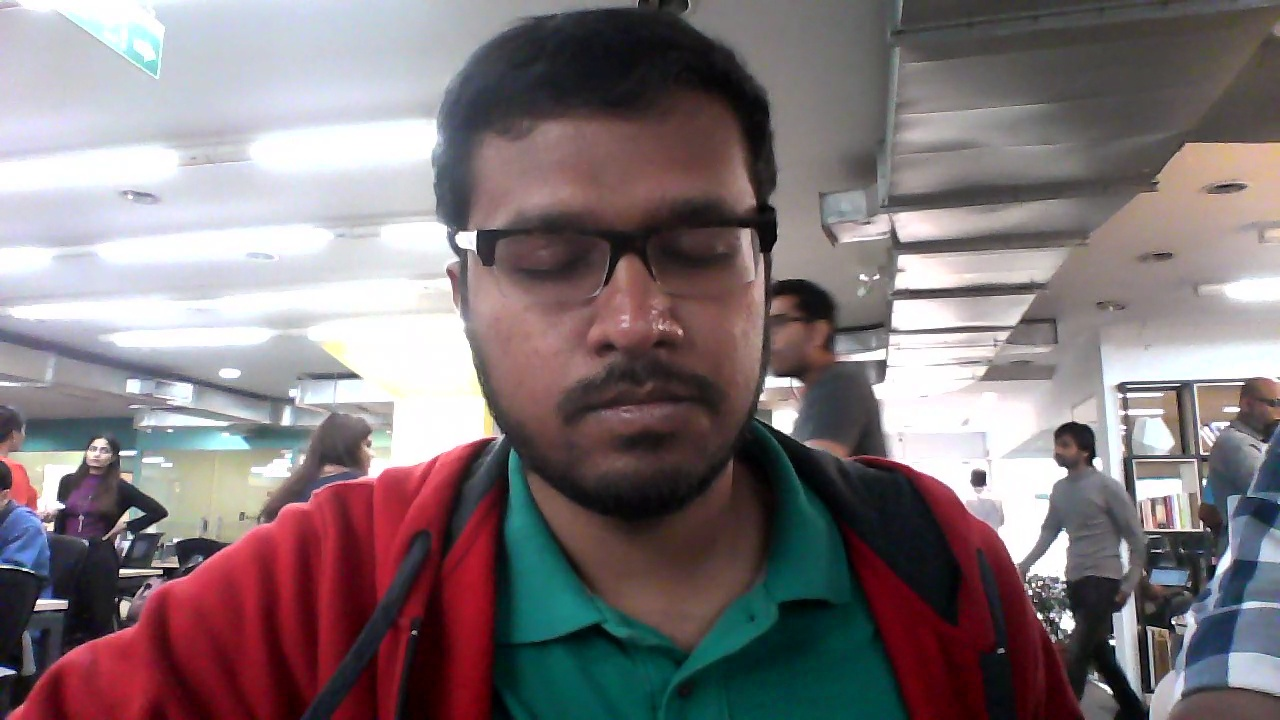closed: (430, 11, 784, 517)
